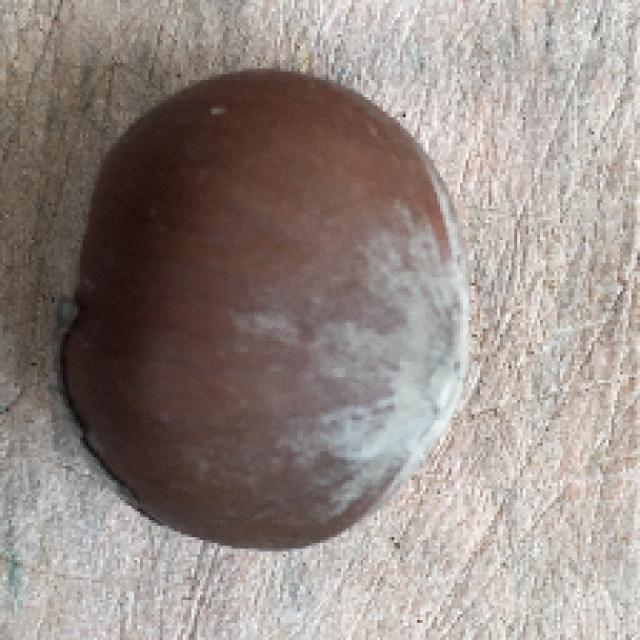damagedHazelnut: (51, 64, 497, 557)
